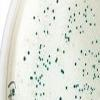Blue_green: (60, 69, 65, 75), (38, 43, 42, 50), (91, 63, 95, 70), (29, 75, 33, 81), (66, 36, 70, 42), (84, 52, 88, 58), (90, 40, 94, 46), (96, 58, 100, 64), (75, 84, 79, 90), (46, 65, 49, 72), (32, 16, 36, 21), (46, 6, 50, 11), (51, 9, 55, 14), (68, 7, 72, 12), (88, 22, 93, 26), (62, 50, 66, 55), (81, 68, 85, 73), (95, 68, 99, 73), (34, 76, 38, 81), (35, 84, 39, 89), (38, 81, 42, 86), (27, 50, 30, 56), (23, 56, 26, 62), (64, 33, 67, 39), (57, 47, 60, 53), (80, 49, 83, 55), (88, 49, 91, 55), (95, 39, 98, 45), (97, 51, 100, 57), (35, 32, 39, 36), (52, 16, 56, 20), (74, 4, 78, 8), (89, 8, 93, 12), (75, 26, 79, 30), (68, 29, 72, 33), (47, 54, 51, 58), (94, 54, 98, 58), (92, 76, 96, 80), (96, 75, 100, 79), (33, 71, 37, 75), (34, 92, 38, 96), (42, 92, 46, 96), (58, 96, 62, 100), (74, 96, 78, 100), (56, 0, 59, 5), (79, 30, 82, 35), (46, 30, 49, 35), (73, 12, 76, 17), (38, 50, 41, 55), (74, 62, 77, 67), (84, 61, 87, 66), (82, 73, 85, 78), (86, 71, 89, 76), (41, 57, 44, 62), (42, 62, 45, 67), (48, 61, 51, 66), (81, 88, 84, 93), (90, 87, 93, 92), (43, 10, 46, 14), (84, 14, 87, 18), (68, 19, 71, 23), (69, 15, 72, 19), (54, 59, 57, 63), (93, 73, 96, 77), (36, 64, 39, 68), (38, 56, 41, 60), (44, 64, 47, 68), (36, 79, 40, 82), (39, 76, 42, 80), (41, 74, 44, 78), (42, 83, 45, 87), (87, 84, 90, 88), (90, 86, 93, 90), (74, 18, 76, 23), (67, 24, 69, 29), (56, 57, 58, 62), (73, 84, 75, 89), (78, 88, 80, 93), (84, 9, 87, 12), (93, 23, 96, 26), (39, 93, 42, 96), (79, 97, 82, 100), (85, 83, 88, 86), (90, 92, 93, 95), (86, 19, 88, 23), (43, 30, 45, 34), (46, 59, 48, 63), (39, 58, 41, 62), (65, 86, 67, 90), (83, 85, 86, 87), (79, 12, 80, 16)
